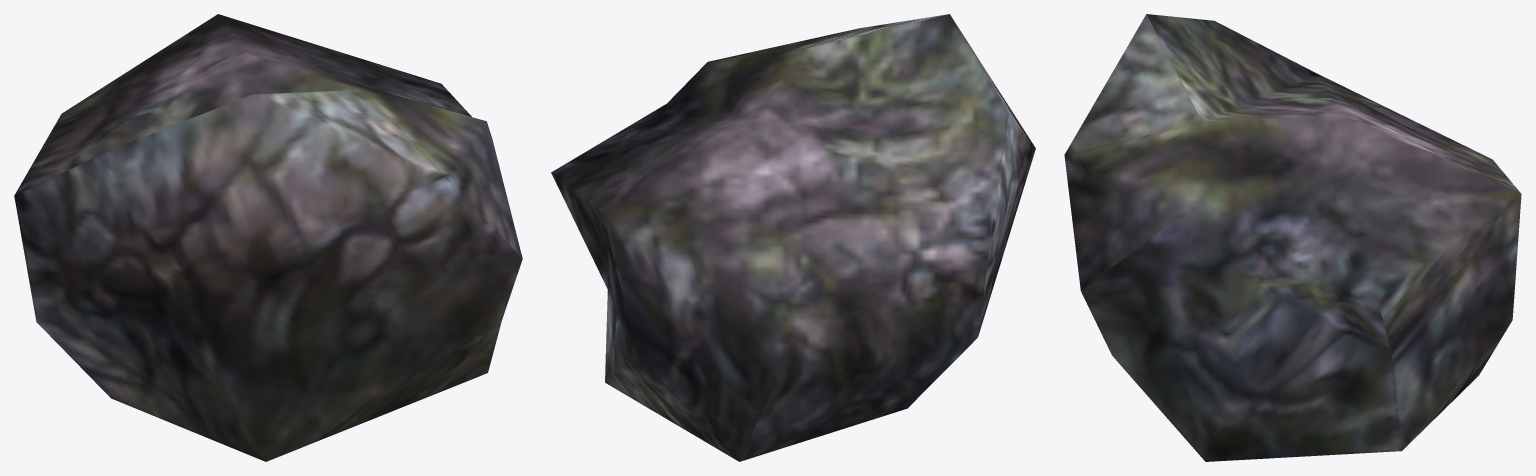
File: ts_nhxzw002.FBX
3 views of the same model, side by side, from view 1: azimuth 30°, elevation 25°; view 2: azimuth 150°, elevation 25°; view 3: azimuth 270°, elevation 25° (orthographic). The views are drawn at different scales.
Visible parts, largest first — view 1: ts_nhxzw002; view 2: ts_nhxzw002; view 3: ts_nhxzw002.
Boxes of the visible parts, x1,y1,x2,y2 form: ts_nhxzw002: [14, 14, 522, 461]; ts_nhxzw002: [551, 14, 1035, 461]; ts_nhxzw002: [1064, 14, 1521, 461].
Bounding box in the file's own units: 3.1 × 2.97 × 2.44.
